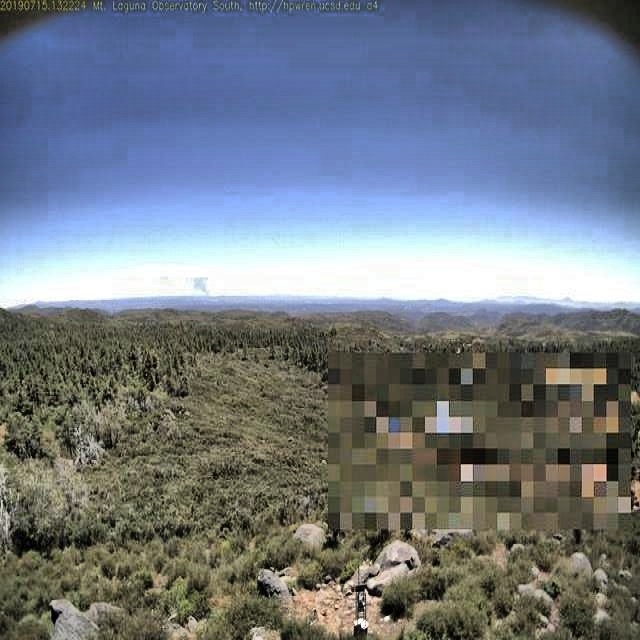smoke: (186, 273, 216, 299)
